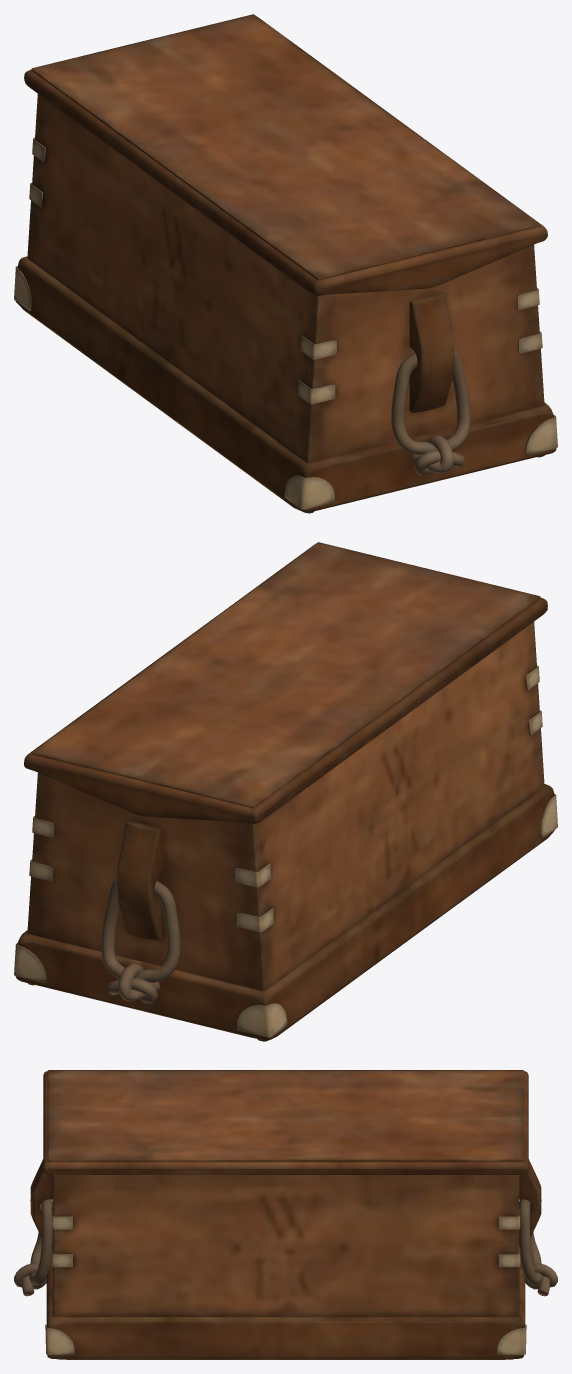
File: wooden_crate_02.gltf
3 views of the same model, one above another, from view 1: azimuth 30°, elevation 25°; view 2: azimuth 150°, elevation 25°; view 3: azimuth 270°, elevation 25° (orthographic). The views are drawn at different scales.
Visible parts, largest first — view 1: wooden_crate_02_crate, wooden_crate_02_lid; view 2: wooden_crate_02_crate, wooden_crate_02_lid; view 3: wooden_crate_02_crate, wooden_crate_02_lid.
Part boxes in pixels (x1,y1,x2,y2): wooden_crate_02_crate: [14, 94, 557, 513]; wooden_crate_02_lid: [24, 14, 547, 296]; wooden_crate_02_crate: [14, 621, 557, 1041]; wooden_crate_02_lid: [24, 542, 547, 823]; wooden_crate_02_crate: [14, 1159, 557, 1359]; wooden_crate_02_lid: [43, 1070, 528, 1174].
Size of the model in its own units: 0.5291 by 0.464 by 1.17.
1 material, 1 textured.
